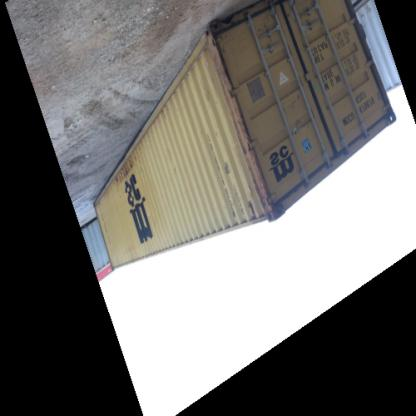Damage: (238, 136, 278, 210), (202, 35, 234, 92), (118, 160, 146, 194), (219, 153, 234, 185), (99, 201, 111, 237)
